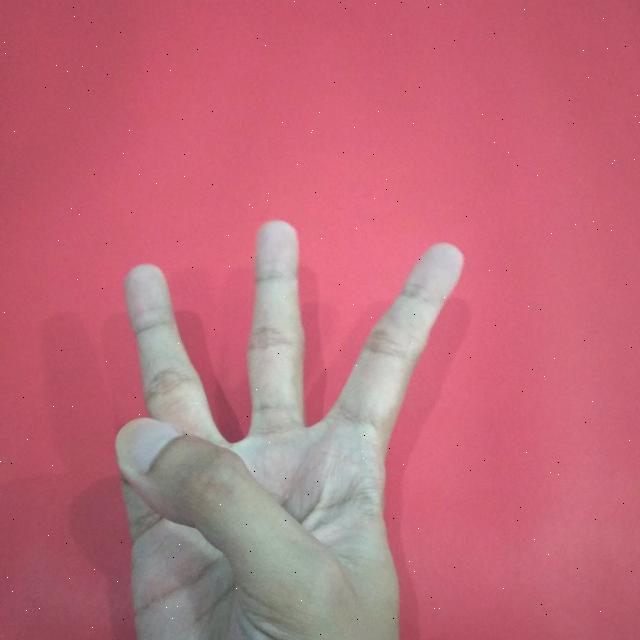W: (103, 213, 470, 640)
